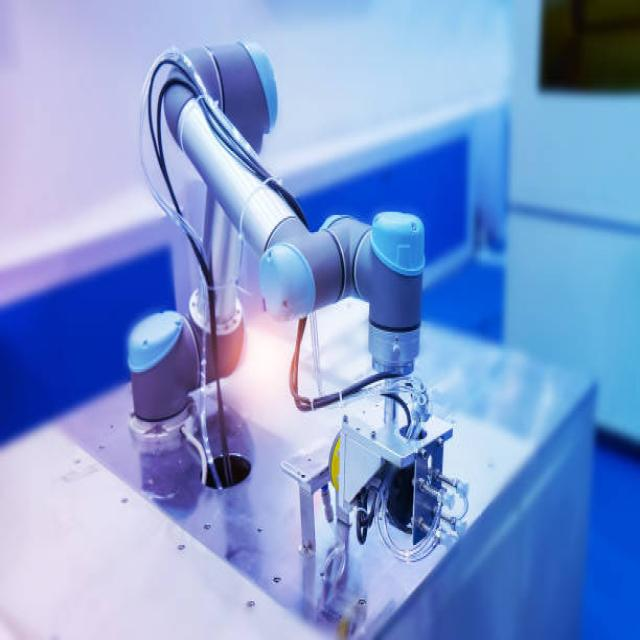Robotic-arm: (125, 36, 431, 436)
